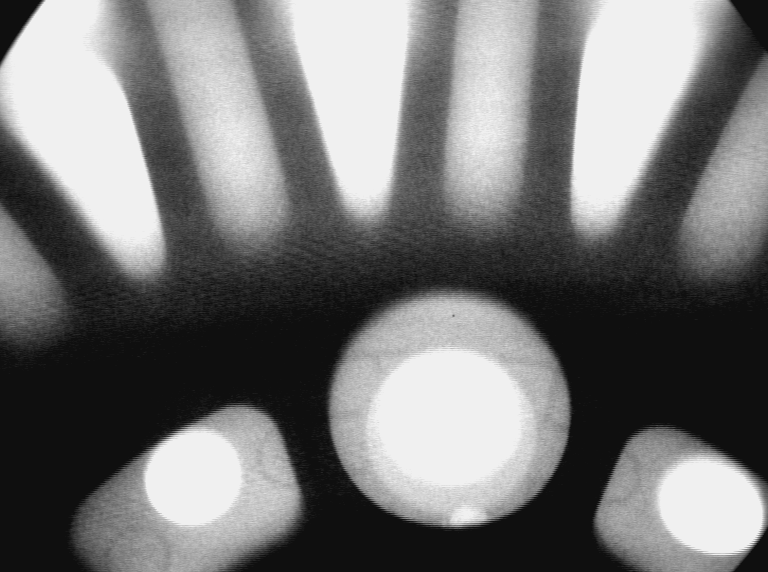defect: (447, 501, 489, 535)
